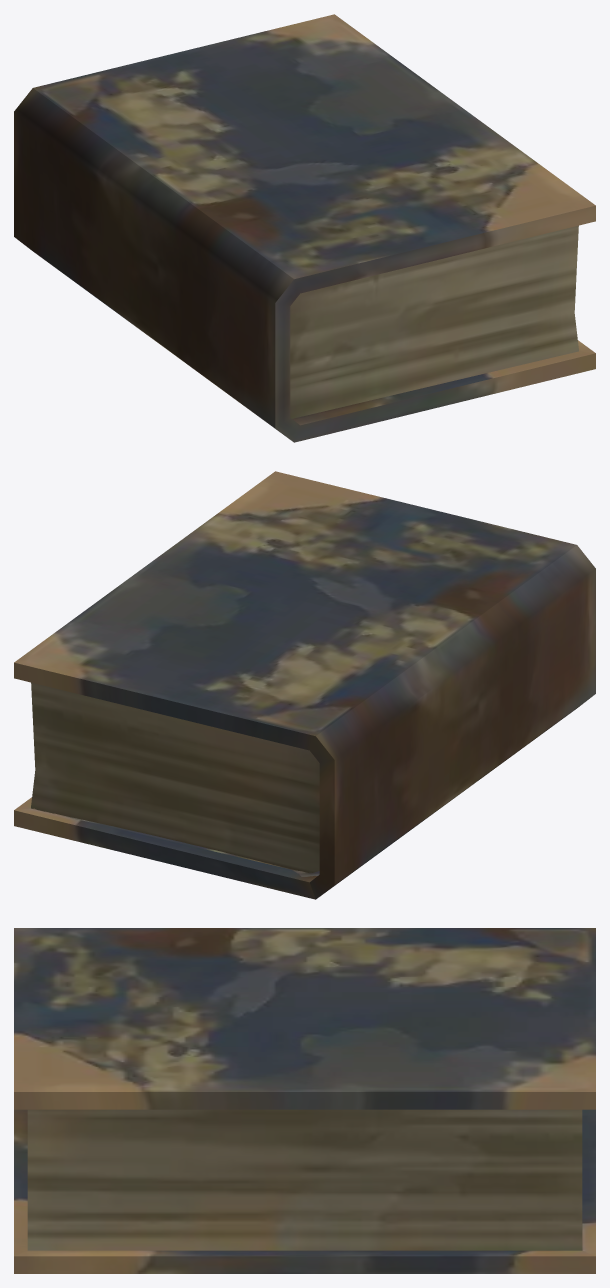
3 views of the same model, one above another, from view 1: azimuth 30°, elevation 25°; view 2: azimuth 150°, elevation 25°; view 3: azimuth 270°, elevation 25° (orthographic). The views are drawn at different scales.
Parts seen in each view (by area): view 1: SM_DR_Book_05_LOD0; view 2: SM_DR_Book_05_LOD0; view 3: SM_DR_Book_05_LOD0.
Boxes of the visible parts, box(x1,y1,x2,y2) form: SM_DR_Book_05_LOD0: box(14, 14, 595, 442); SM_DR_Book_05_LOD0: box(14, 471, 595, 899); SM_DR_Book_05_LOD0: box(14, 928, 595, 1273).
Size of the model in its own units: 0.2709 by 0.132 by 0.3825.
Materials: 1 (1 with a texture image).
